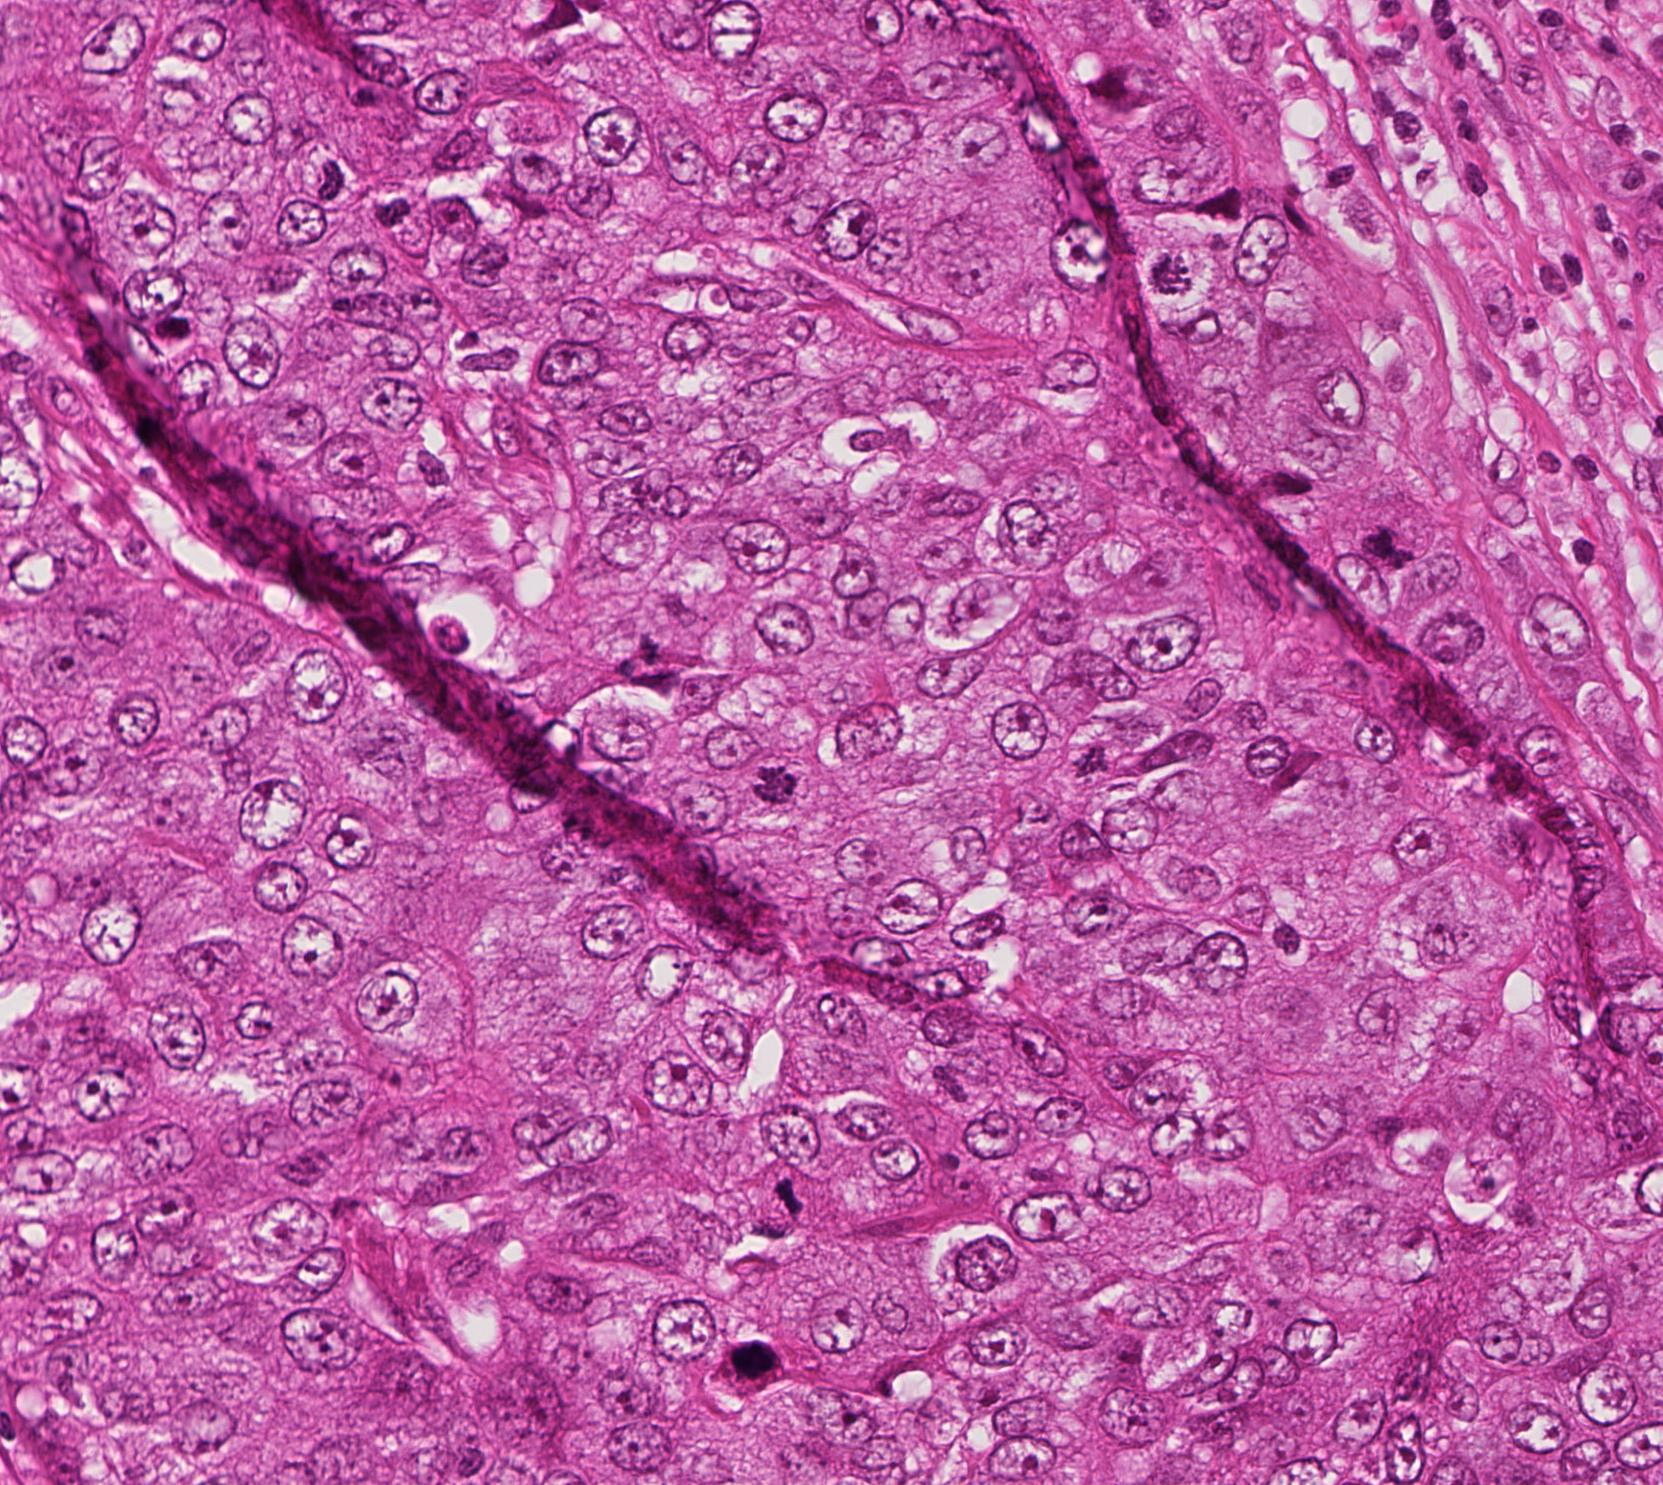mitosis: (731, 755, 791, 816), (1349, 507, 1409, 568), (766, 1160, 824, 1218)
